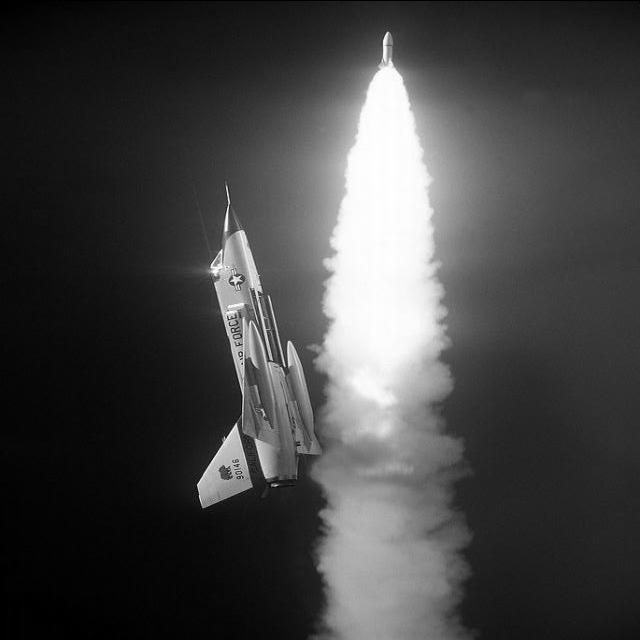Missile: (365, 23, 406, 70)
